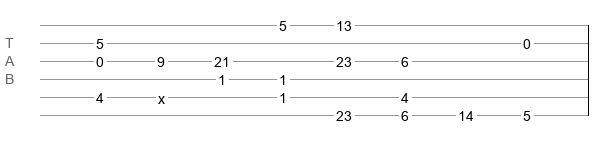0: (96, 54, 104, 64), (523, 36, 531, 46)
1: (218, 72, 226, 82), (279, 90, 287, 100), (279, 72, 287, 82)
13: (336, 18, 352, 28)
14: (458, 108, 474, 118)
21: (214, 54, 230, 64)
23: (336, 54, 352, 64), (336, 108, 352, 118)
4: (96, 90, 104, 100), (401, 90, 409, 100)
5: (96, 36, 104, 46), (279, 18, 287, 28), (523, 108, 531, 118)
6: (401, 108, 409, 118), (401, 54, 409, 64)
9: (157, 54, 165, 64)
x: (158, 91, 165, 99)
